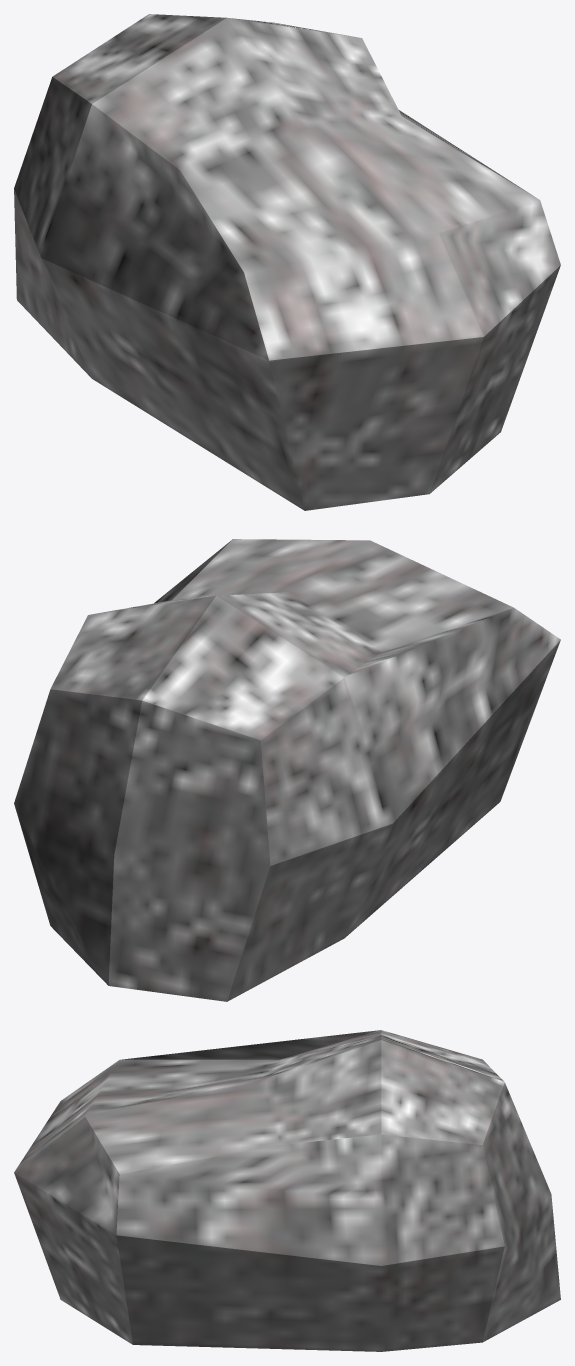
The model's file is Crafting_ZincOre.fbx.
The picture shows the model from 3 angles, top to bottom: view 1: azimuth 30°, elevation 25°; view 2: azimuth 150°, elevation 25°; view 3: azimuth 270°, elevation 25°; orthographic projection. The views are drawn at different scales.
Parts seen in each view (by area): view 1: Cube.003; view 2: Cube.003; view 3: Cube.003.
Part boxes in pixels (x1,y1,x2,y2): Cube.003: [14, 14, 560, 510]; Cube.003: [14, 539, 560, 1001]; Cube.003: [14, 1030, 560, 1351].
Bounding box in the file's own units: 0.1001 × 0.0844 × 0.161.
